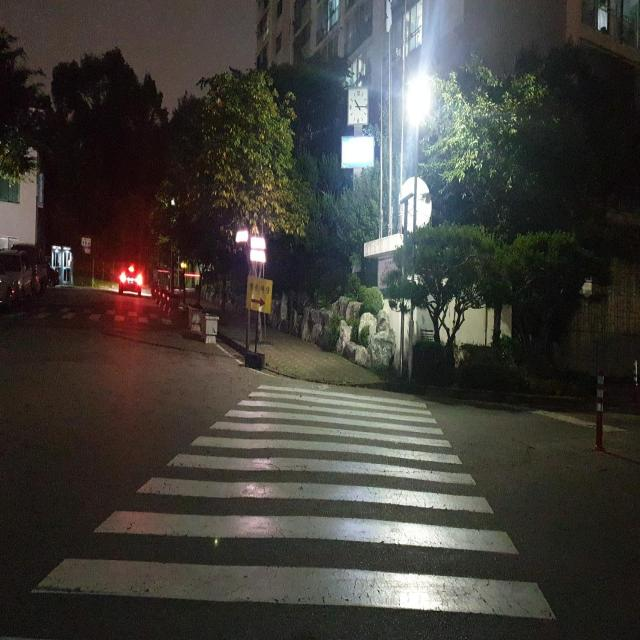횡단보도: (27, 381, 559, 624), (21, 296, 168, 326)
